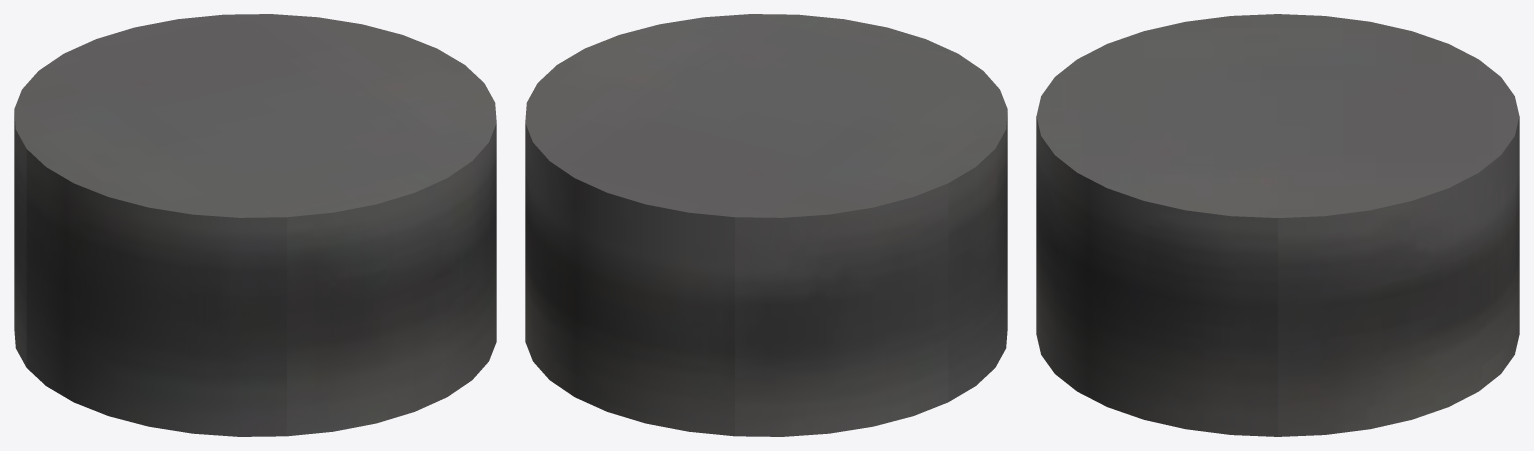
Rendered from needle__hub.glb.
The picture shows the model from 3 angles, left to right: view 1: azimuth 30°, elevation 25°; view 2: azimuth 150°, elevation 25°; view 3: azimuth 270°, elevation 25°; orthographic projection.
Visible parts, largest first — view 1: geometry_0; view 2: geometry_0; view 3: geometry_0.
Part boxes in pixels (x1,y1,x2,y2): geometry_0: (14, 14, 496, 436); geometry_0: (525, 14, 1007, 436); geometry_0: (1036, 14, 1519, 436).
Size of the model in its own units: 0.008 by 0.004 by 0.008.
Materials: 1 (1 with a texture image).
